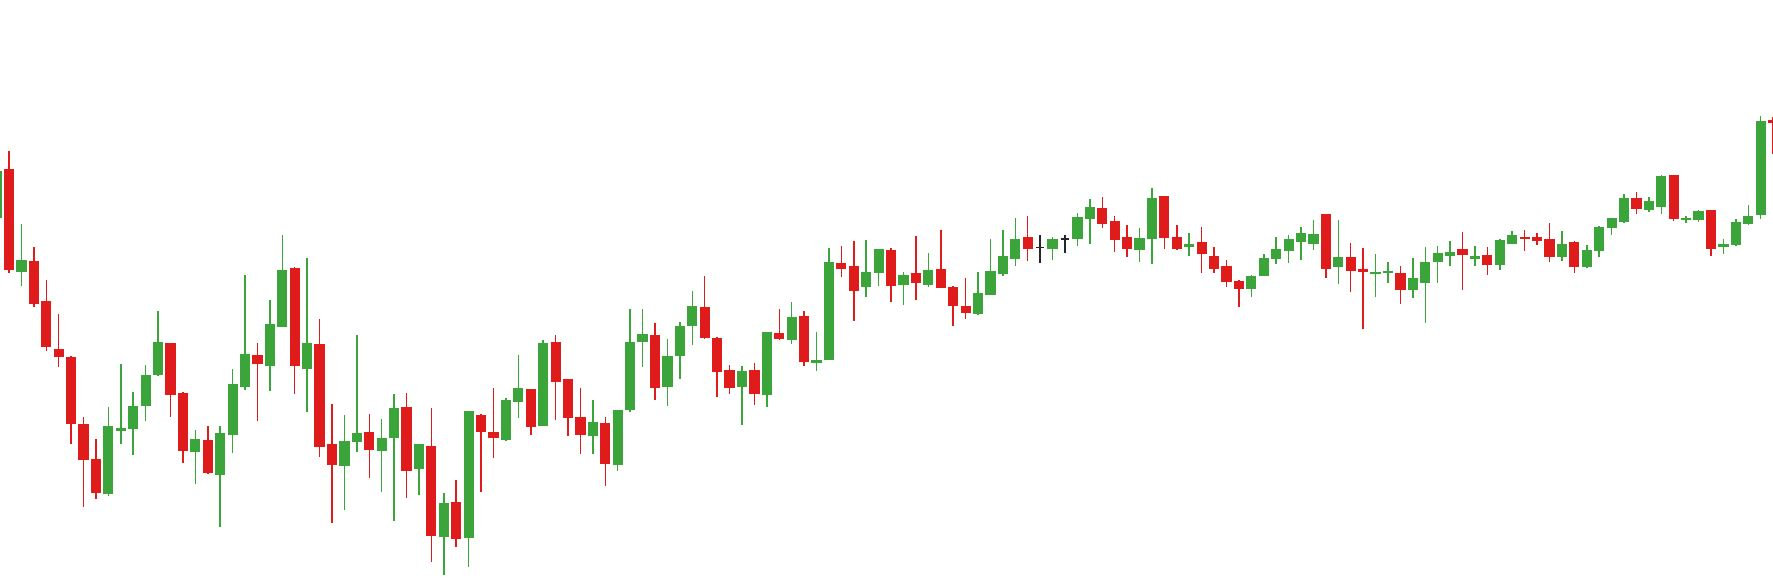buy: (326, 402, 452, 580), (648, 329, 749, 433)
